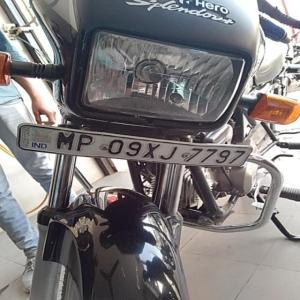Plate: (19, 124, 249, 167)
